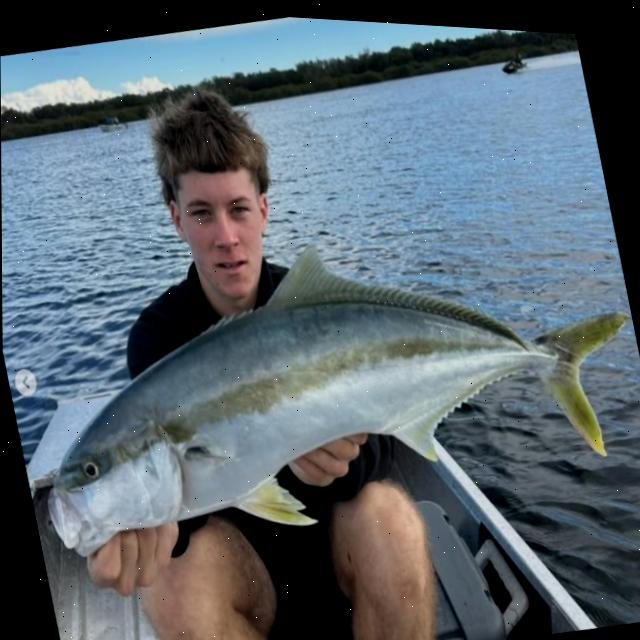Kingfish: (1, 162, 640, 593)
